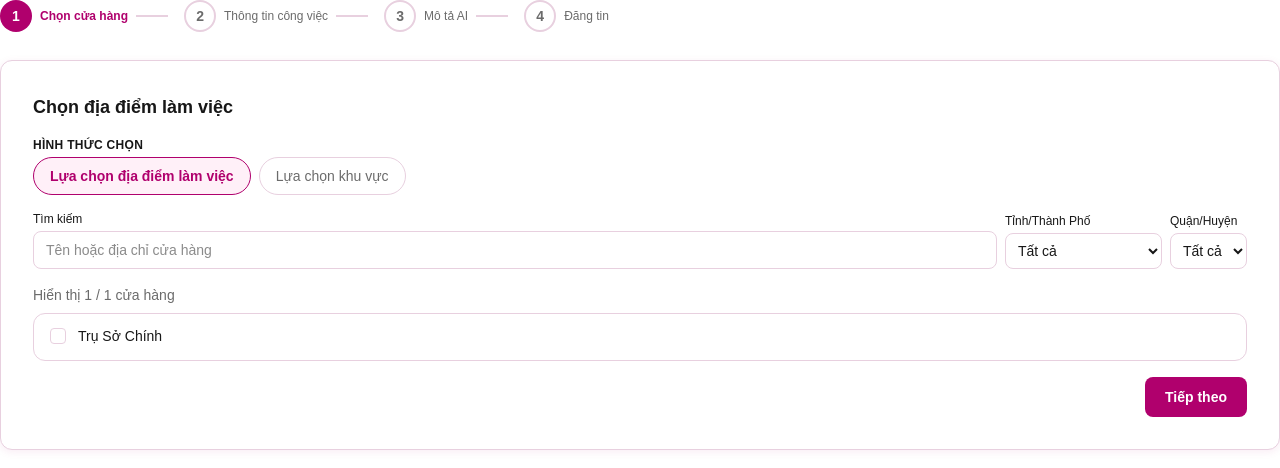
Test case: JobWizardPage › switching to "Lựa chọn khu vực" hides the manual checkbox list and shows Tỉnh/Quận selects
The width and height of the screenshot is (1280, 468).
Expected: the button labelled "Trụ Sở Chính" is shown, [33,313,1247,361]
Click the radio button labelled "Lựa chọn khu vực" at (332, 176), box [259,157,406,195]
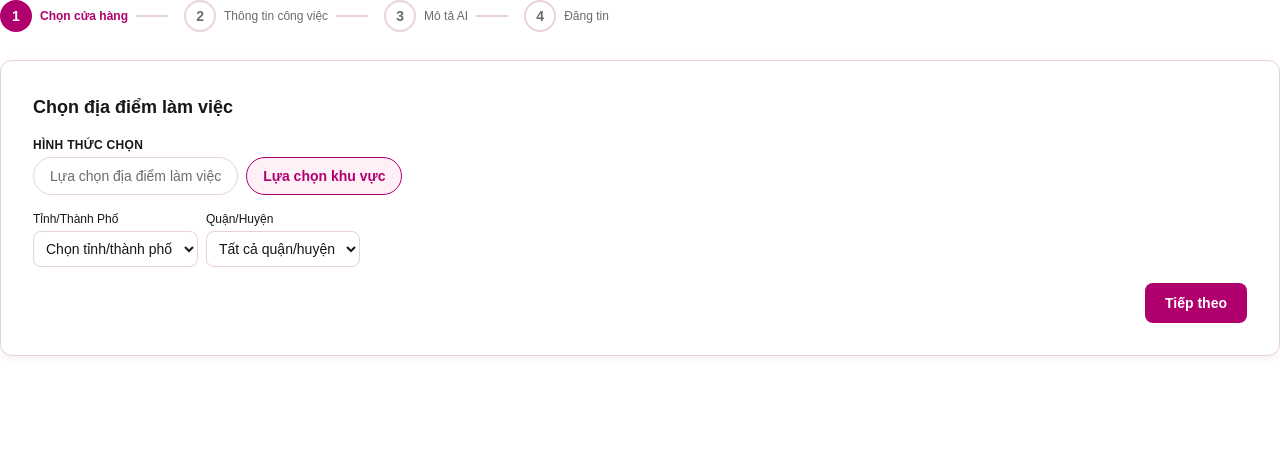
Expected: the text "Tỉnh/Thành Phố" is shown, [33,211,198,267]
Now the button labelled "Trụ Sở Chính" is gone
